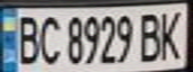2: (100, 11, 118, 65)
8: (60, 11, 84, 65)
9: (115, 10, 139, 64), (81, 11, 100, 65)
B: (9, 11, 42, 65), (136, 9, 166, 62)
C: (33, 11, 63, 66)
K: (154, 7, 187, 61)
